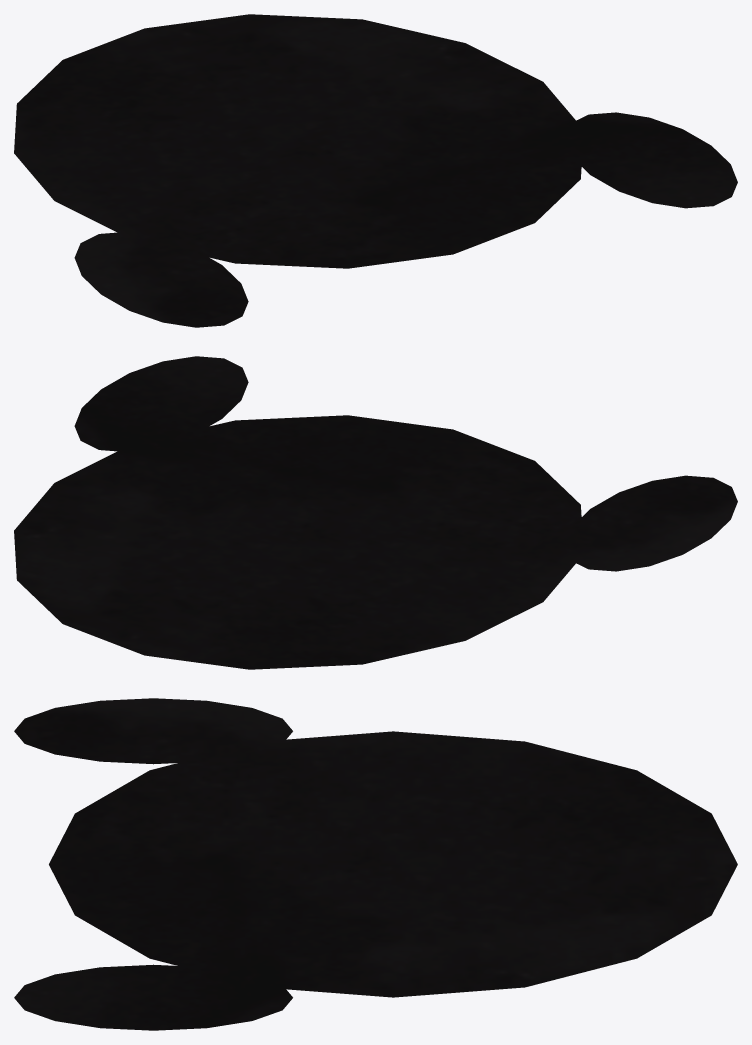
The model's file is knight_shadow_GEO_01.fbx.
The picture shows the model from 3 angles, top to bottom: view 1: azimuth 30°, elevation 25°; view 2: azimuth 150°, elevation 25°; view 3: azimuth 270°, elevation 25°; orthographic projection. The views are drawn at different scales.
Visible parts, largest first — view 1: knight_shadow_GEO_01; view 2: knight_shadow_GEO_01; view 3: knight_shadow_GEO_01.
Boxes of the visible parts, x1=… form: knight_shadow_GEO_01: x1=14, y1=14, x2=737, y2=327; knight_shadow_GEO_01: x1=14, y1=356, x2=737, y2=669; knight_shadow_GEO_01: x1=14, y1=698, x2=737, y2=1030.
Bounding box in the file's own units: 7.48 × 0 × 6.89.
Materials: 1 (1 with a texture image).
